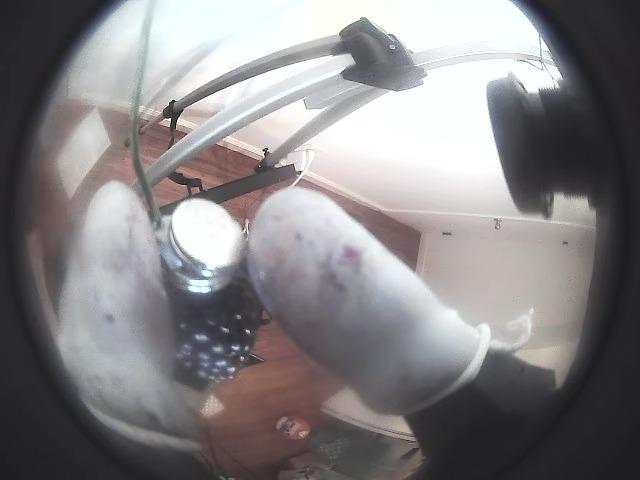berry: (168, 276, 265, 389)
gripper: (248, 187, 490, 414), (59, 181, 198, 449)
lense: (0, 0, 201, 479), (488, 0, 639, 479)
